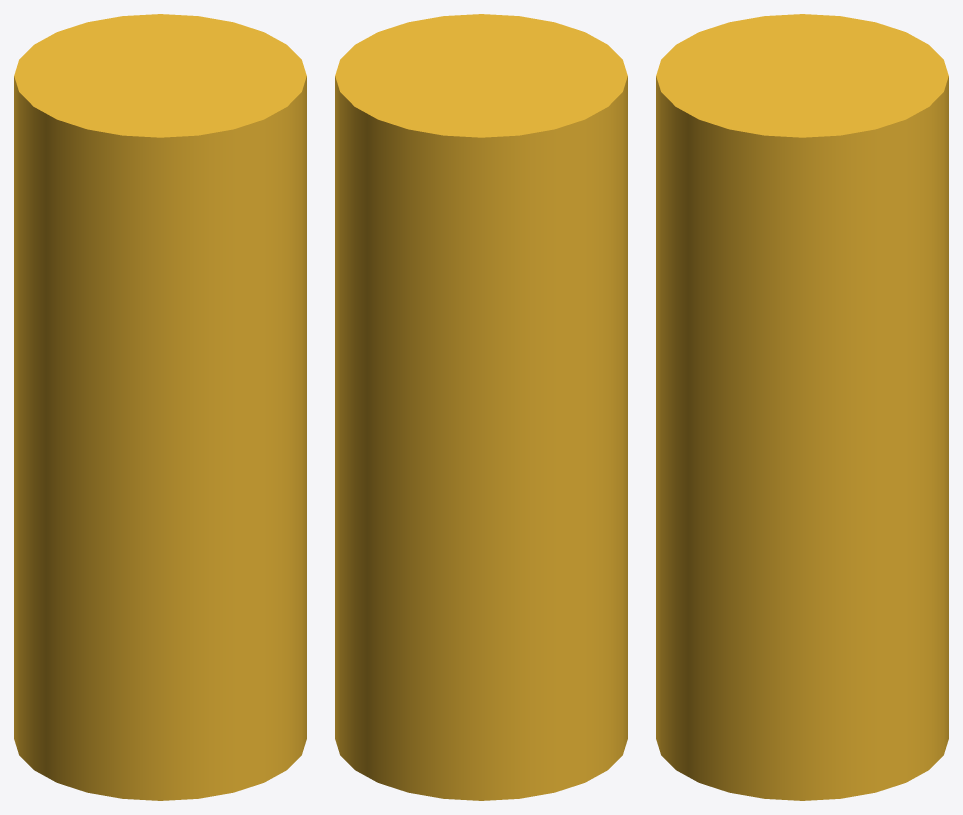
File: foamBulletA.glb
The picture shows the model from 3 angles, left to right: view 1: azimuth 30°, elevation 25°; view 2: azimuth 150°, elevation 25°; view 3: azimuth 270°, elevation 25°; orthographic projection.
Parts seen in each view (by area): view 1: foamBulletA; view 2: foamBulletA; view 3: foamBulletA.
Boxes of the visible parts, x1=… form: foamBulletA: x1=14, y1=14, x2=306, y2=800; foamBulletA: x1=335, y1=14, x2=627, y2=800; foamBulletA: x1=656, y1=14, x2=948, y2=800.
Size of the model in its own units: 0.02 by 0.05 by 0.02.
